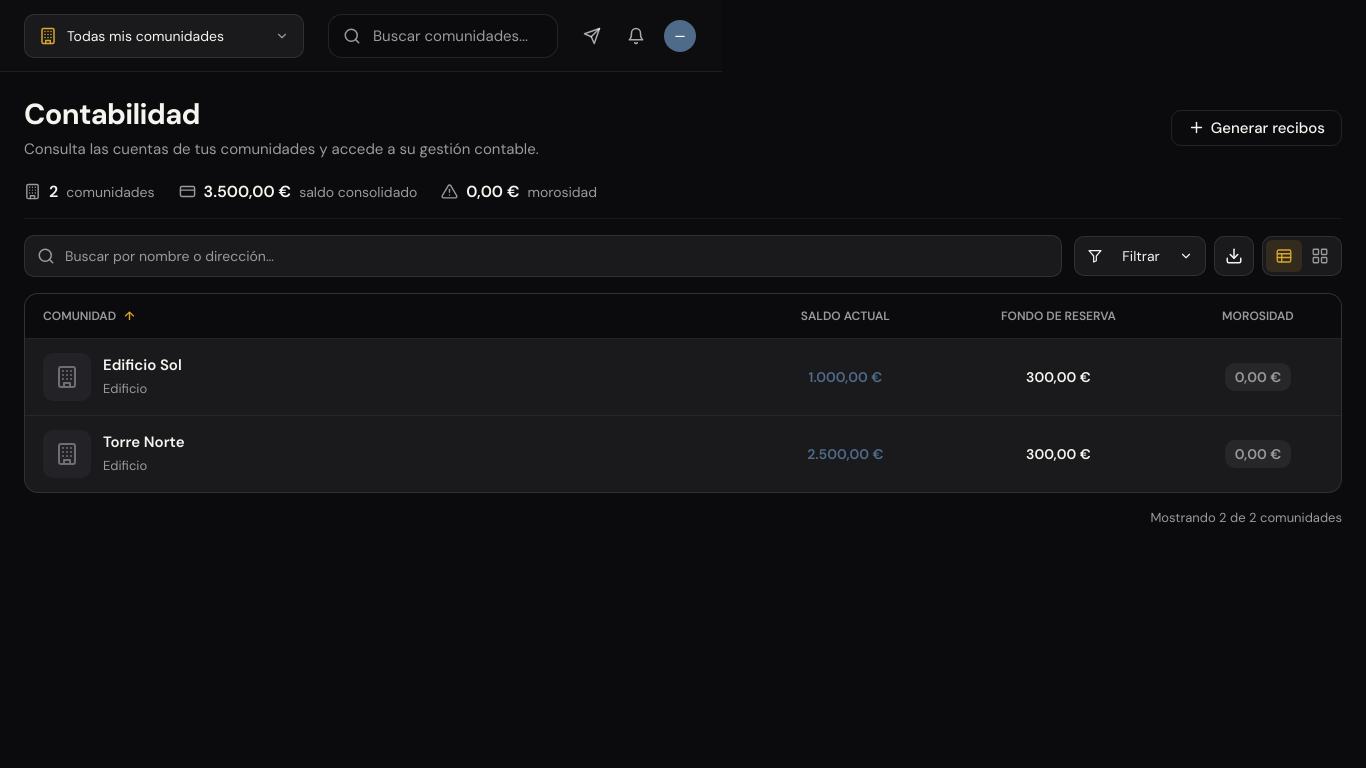
Test case: AccountingDashboardComponent › cambia entre tabla y tarjetas conservando los filtros y los importes contables
The width and height of the screenshot is (1366, 768).
Step 1. Type "torre" into the search field with placeholder "Buscar por nombre o dirección…" → (557, 256), box [65,247,1049,265]
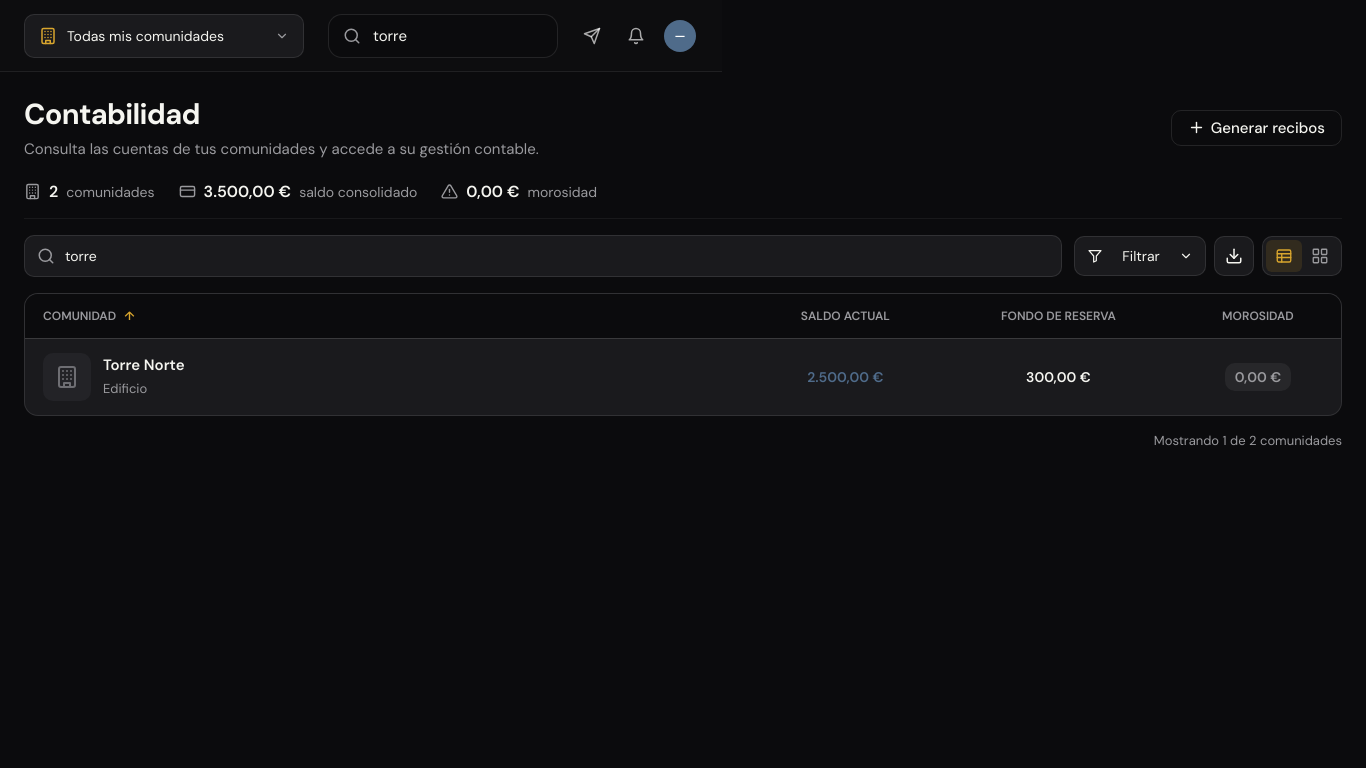
Step 2. Click the button named "Vista tarjetas" → (1320, 256), box [1302,240,1338,272]
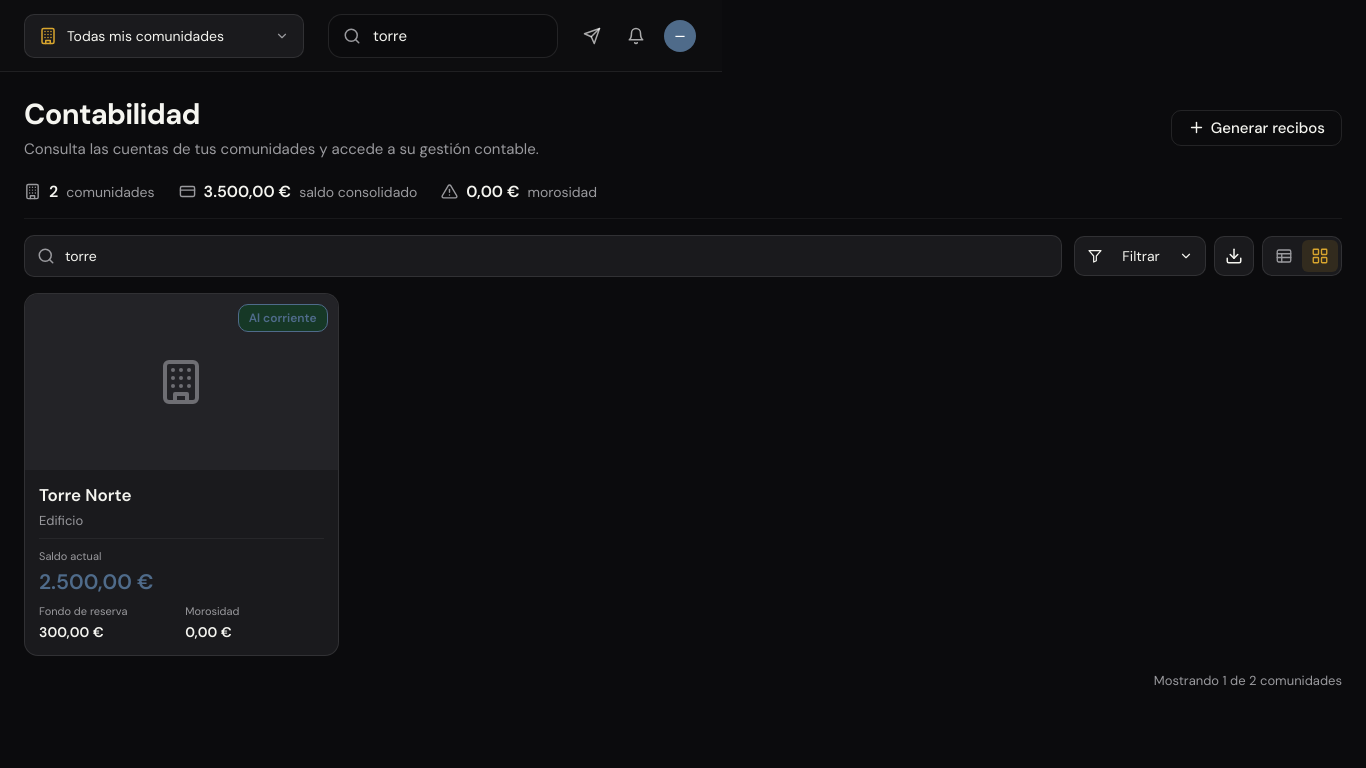
expect the table is gone: met
expect the number of buttons with class "accounting-card" is 1: met, box [24,293,338,656]
expect the button with class "accounting-card" shows "2.500,00 €": met, box [24,293,338,656]
Step 3. Click the button named "Vista tabla" → (1284, 256), box [1266,240,1302,272]
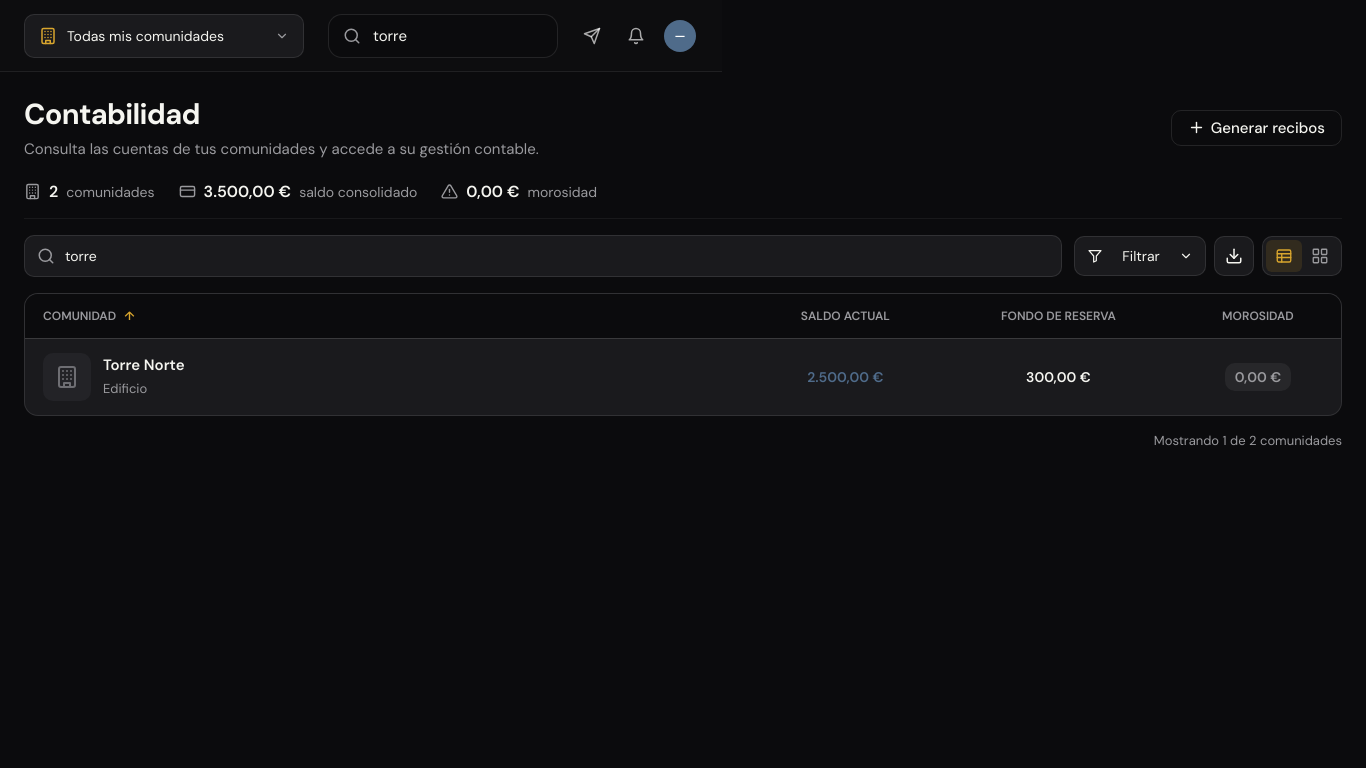
expect the row "Torre Norte Edificio 2.500,00 € 300,00 € 0,00 €" is shown: met, box [25,339,1341,415]
